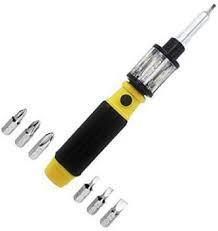screwdriver: (43, 11, 208, 187), (98, 197, 128, 227), (85, 186, 114, 215), (71, 174, 99, 203), (0, 106, 27, 134), (28, 130, 54, 158), (14, 119, 40, 146)
